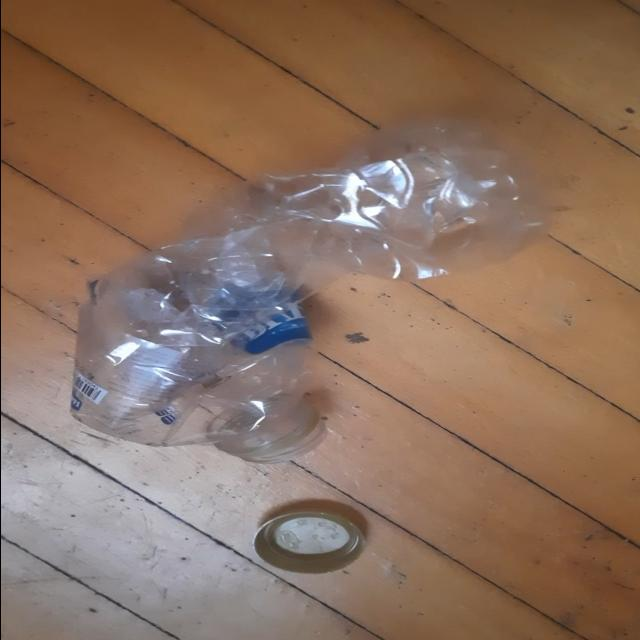Plastic: (68, 120, 554, 456)
